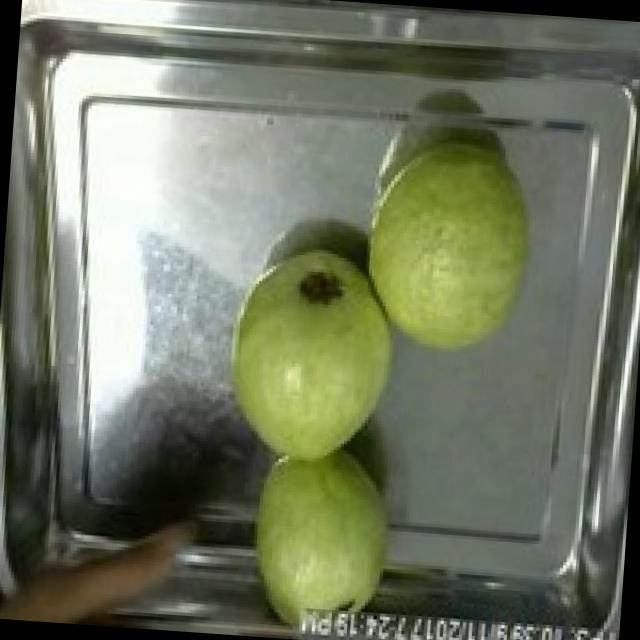Fruit: (346, 127, 551, 370), (210, 234, 412, 476), (234, 436, 407, 640)
